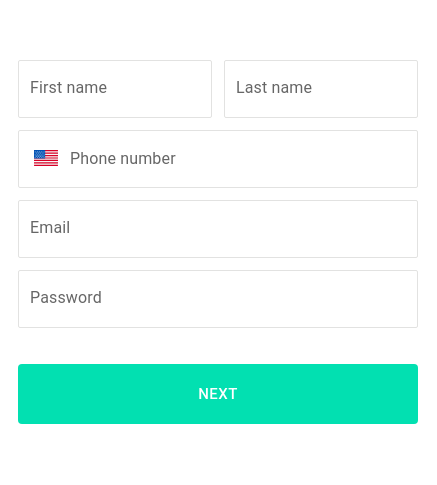
When Password field is less than 8 Characters
The width and height of the screenshot is (437, 485).
Step 1. Type "123456" into the field labelled "Password" → [218, 299], box [19, 271, 417, 327]
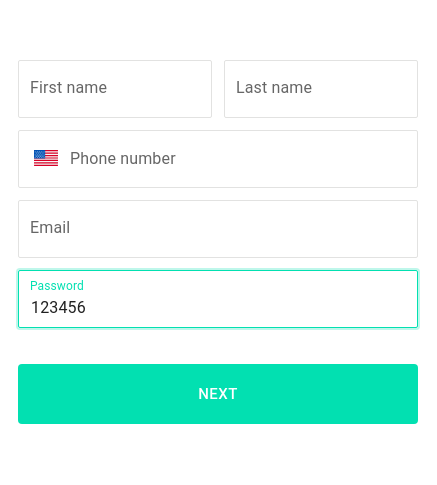
Step 2. Click the button "NEXT" → [218, 394], box [18, 364, 418, 424]
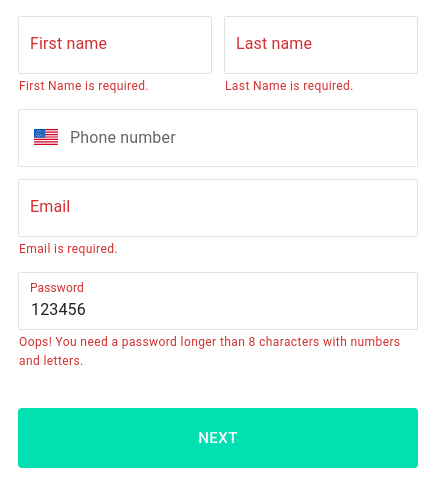
Now the text "Oops! You need a password longer than 8 characters with numbers and letters." is shown, box [19, 332, 404, 372]
